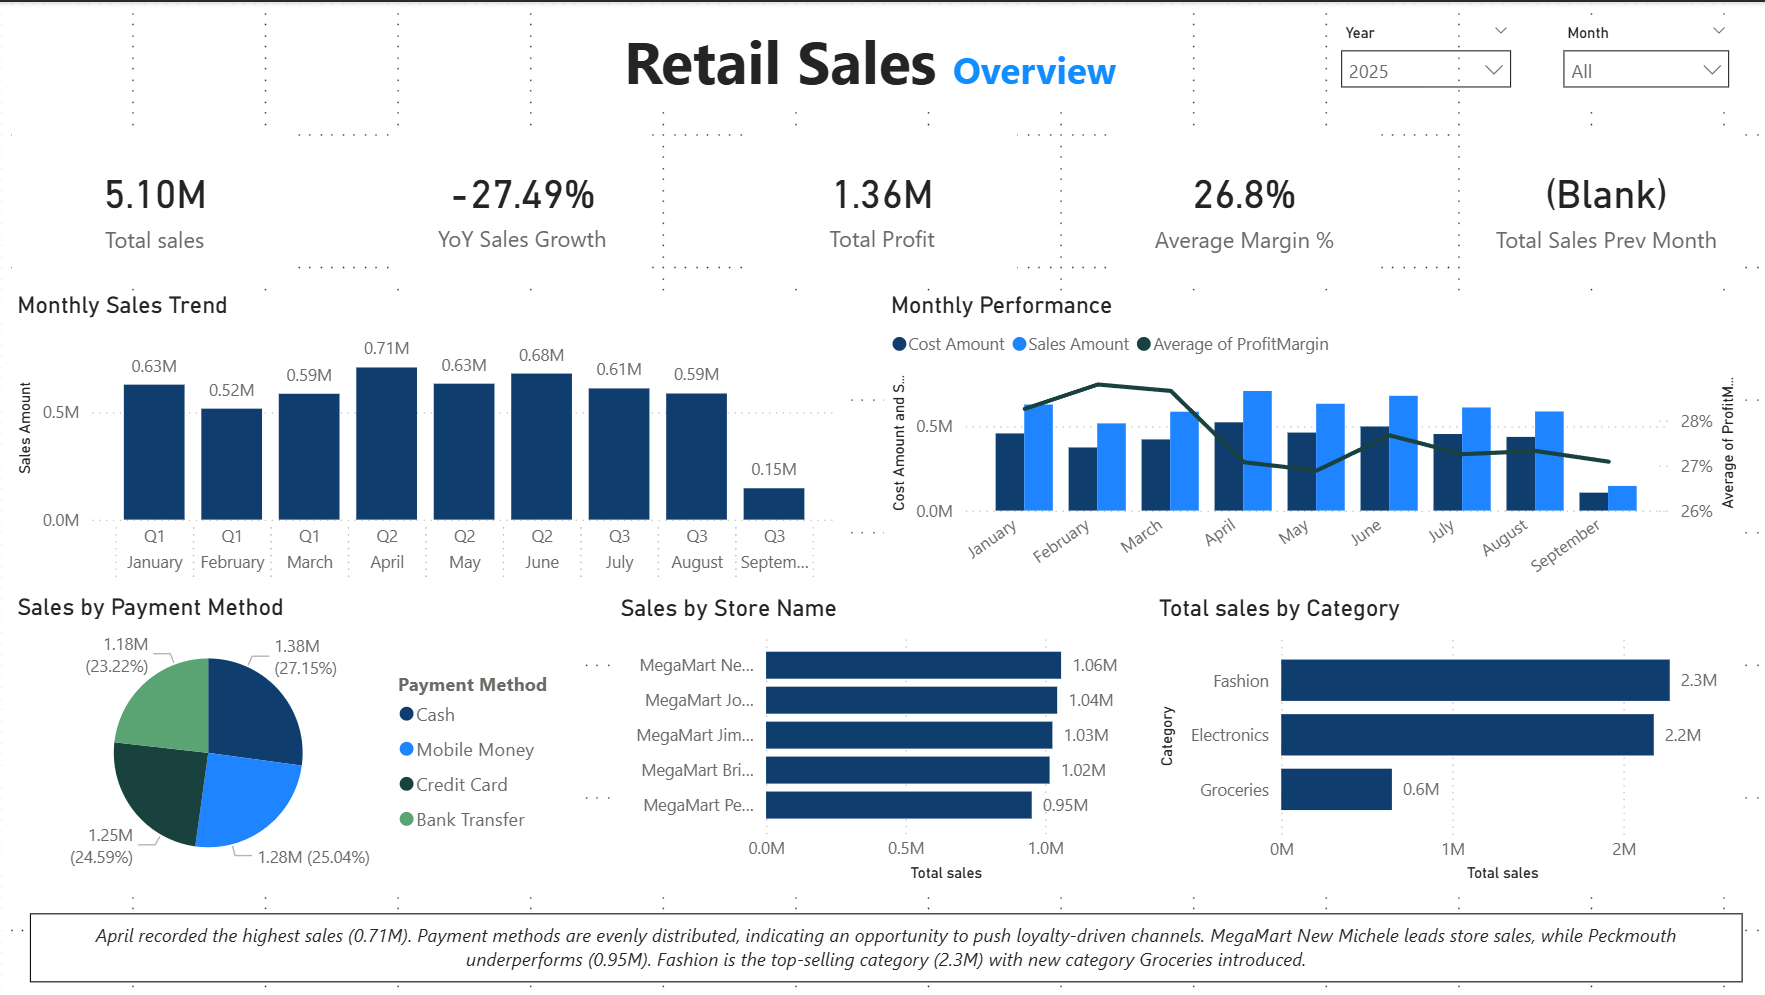

The dashboard page shown, as its layout file describes it:
{"tool":"powerbi","page":{"name":"Executive Summary","canvas":[1280,720],"ordinal":0},"visuals":[{"type":"card","fields":{"Values":["DAX Measure.Total Profit"]},"box":[540.4,91.3,196.2,111.2],"z":0},{"type":"clusteredColumnChart","title":"Monthly Sales Trend","fields":{"Category":["Calender.MonthName","Calender.Quater"],"Y":["Sum(Transactions.Sales Amount)"]},"box":[7.8,209.6,602.8,218.3],"z":1000},{"type":"textbox","box":[412.4,8,435.3,67.6],"z":2000},{"type":"card","fields":{"Values":["DAX Measure.Total sales"]},"box":[8.1,91.8,206.3,110.2],"z":3000},{"type":"card","fields":{"Values":["DAX Measure.Average Margin %"]},"box":[807.1,91.8,186,110.2],"z":4000},{"type":"lineClusteredColumnComboChart","title":"Monthly Performance","fields":{"Category":["Calender.MonthName"],"Y":["Sum(Transactions.CostAmount)","Sum(Transactions.Sales Amount)"],"Y2":["Avg(Transactions.ProfitMargin)"]},"box":[640,209.6,621.8,218.3],"z":5000},{"type":"pieChart","title":"Sales by Payment Method","fields":{"Category":["Transactions.PaymentMethod"],"Y":["DAX Measure.Total saless (sumx)"]},"box":[7.8,427.8,409.7,213.1],"z":6000},{"type":"barChart","title":"Sales by Store Name","fields":{"Category":["Transactions.StoreName"],"Y":["DAX Measure.Total saless (sumx)"]},"box":[444.1,429,389.9,212.5],"z":7000},{"type":"card","fields":{"Values":["DAX Measure.YoY Sales Growth"]},"box":[284.9,91.3,185,111.2],"z":8000},{"type":"slicer","fields":{"Values":["Calender.MonthName"]},"box":[1121.7,10,140.3,68.2],"z":9000},{"type":"slicer","fields":{"Values":["Calender.Year"]},"box":[961.3,10,143.3,68.2],"z":10000},{"type":"card","fields":{"Values":["DAX Measure.Total Sales Prev Month"]},"box":[1063.7,91.8,198.2,110.2],"z":11000},{"type":"textbox","box":[21.7,659.9,1240.2,50.2],"z":12000},{"type":"clusteredBarChart","fields":{"Category":["Transactions.Category"],"Y":["DAX Measure.Total sales"]},"box":[834,429,428,213],"z":13000}]}

Visuals, with their boxes in screenshot pixels (x1, y1, x2, y2), scaled from the page's 1280x720 canvas onto the 1765x995 screenshot:
card - DAX Measure.Total Profit: (745,126,1016,280)
"Monthly Sales Trend" clusteredColumnChart: (11,290,842,591)
textbox: (569,11,1169,104)
card - DAX Measure.Total sales: (11,127,296,279)
card - DAX Measure.Average Margin %: (1113,127,1369,279)
"Monthly Performance" lineClusteredColumnComboChart: (882,290,1740,591)
"Sales by Payment Method" pieChart: (11,591,576,886)
"Sales by Store Name" barChart: (612,593,1150,887)
card - DAX Measure.YoY Sales Growth: (393,126,648,280)
slicer - Calender.MonthName: (1547,14,1740,108)
slicer - Calender.Year: (1326,14,1523,108)
card - DAX Measure.Total Sales Prev Month: (1467,127,1740,279)
textbox: (30,912,1740,981)
clusteredBarChart - Transactions.Category x DAX Measure.Total sales: (1150,593,1740,887)
